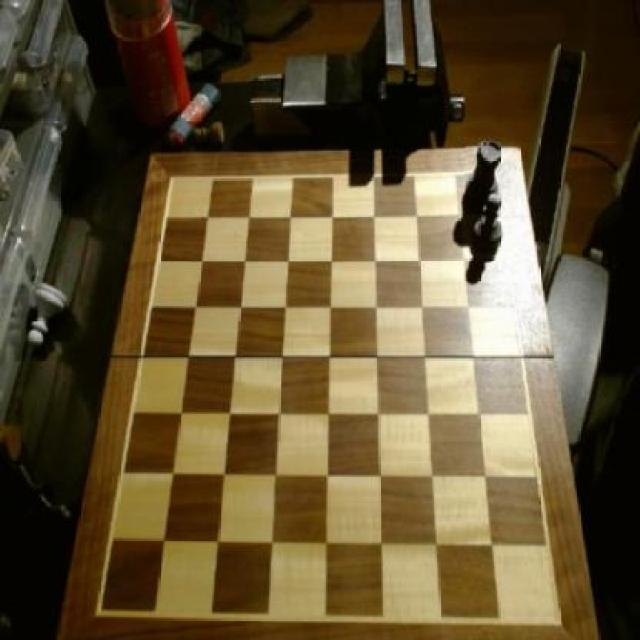black-knight: (474, 194, 504, 259)
black-queen: (466, 143, 502, 219)
